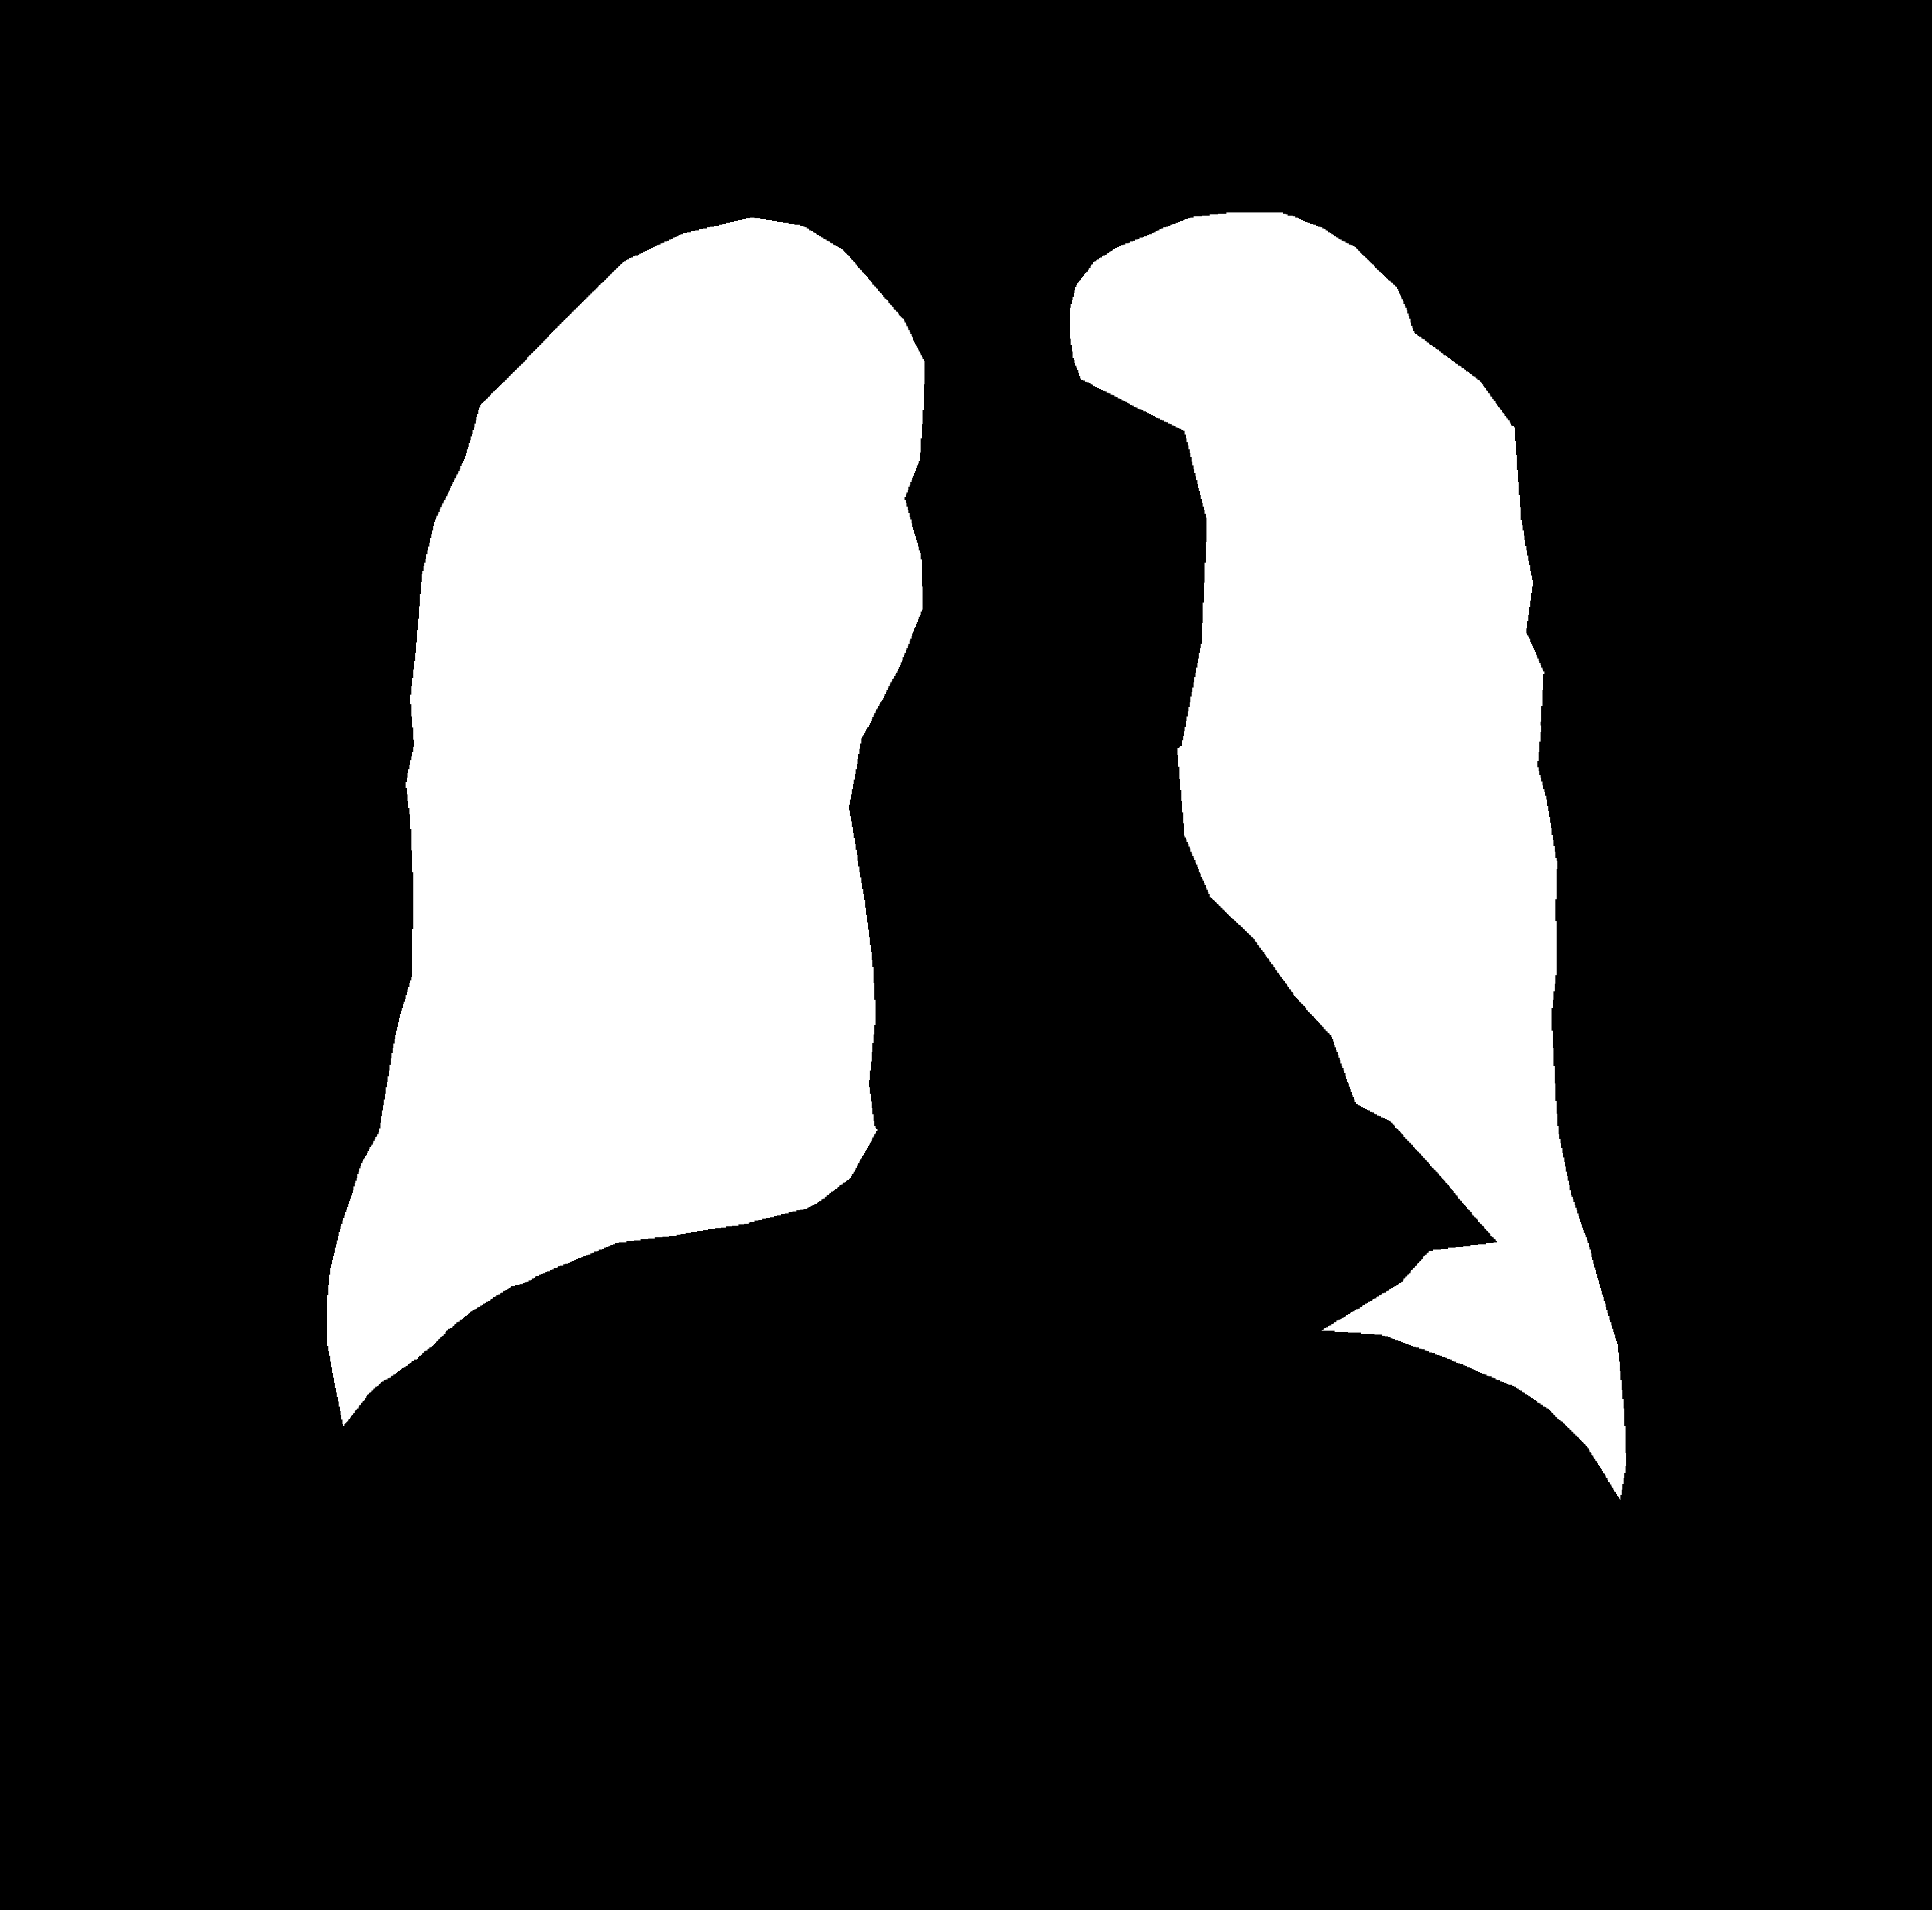heart: (811, 985, 1406, 1385)
left_lung: (327, 217, 923, 1426)
right_lung: (1070, 212, 1626, 1499)
